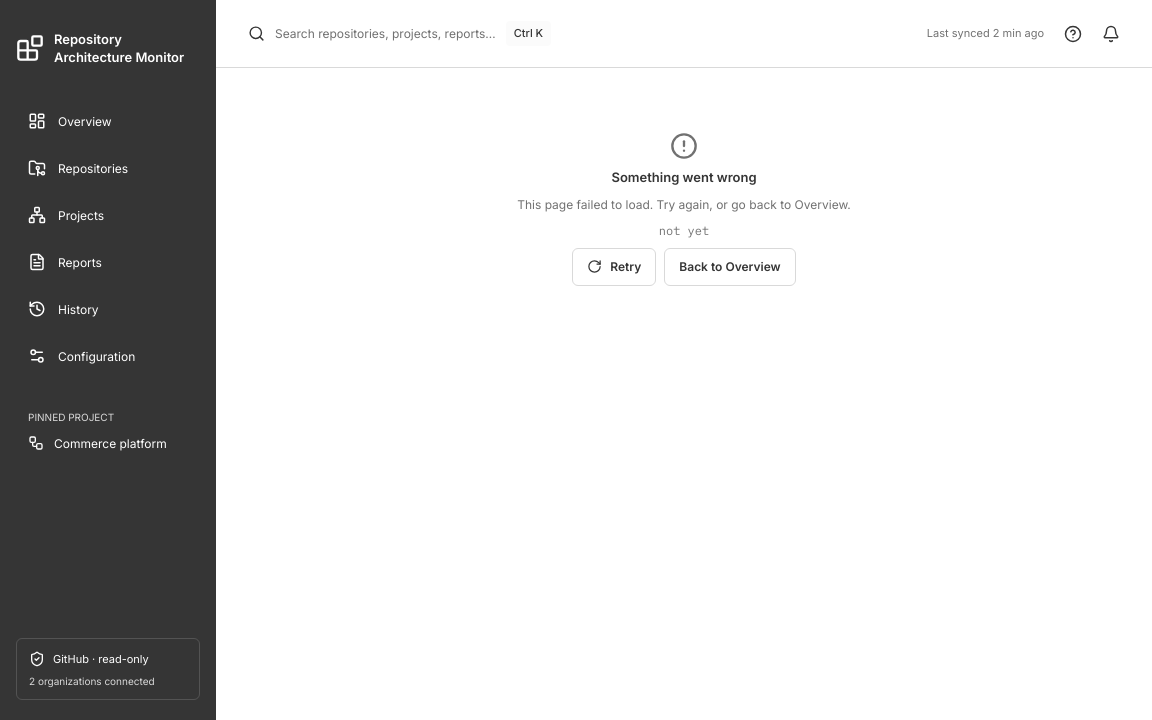
Test: AppShell error boundary › renders the page when a Retry succeeds
The image size is (1152, 720).
Expected: the heading "Something went wrong" is shown, [611,168,756,188]
Click the button "Retry".
click(614, 266)  # box [572,248,656,286]
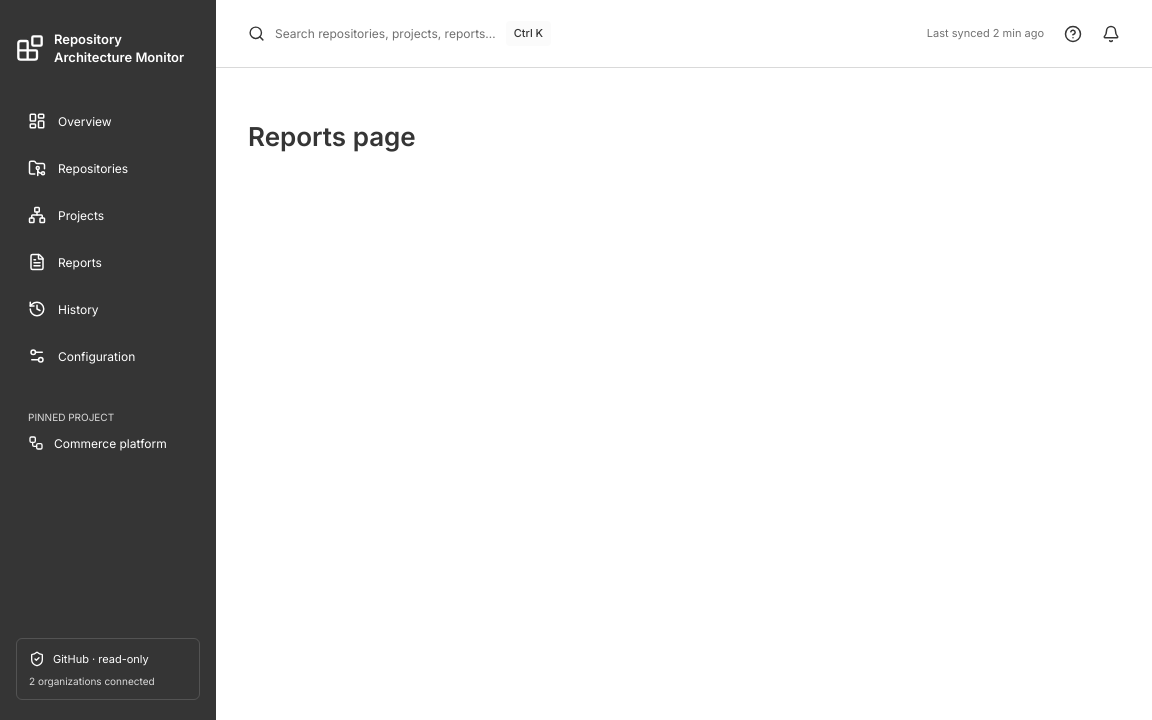
Expected: the heading "Reports page" is shown, [248,121,416,152]
Expected: the message is gone
